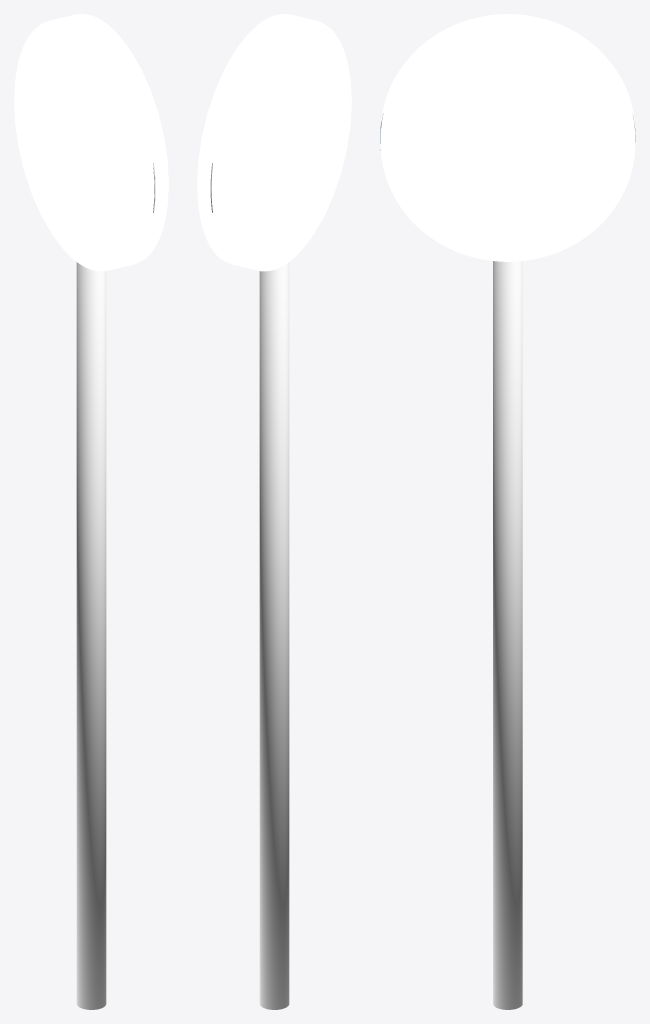
File: ledenec.gltf
3 views of the same model, side by side, from view 1: azimuth 30°, elevation 25°; view 2: azimuth 150°, elevation 25°; view 3: azimuth 270°, elevation 25° (orthographic).
Parts seen in each view (by area): view 1: lollipop, pal; view 2: lollipop, pal; view 3: lollipop, pal.
Part boxes in pixels (x1,y1,x2,y2): lollipop: (14,14,168,271); pal: (76,262,106,1009); lollipop: (197,14,351,271); pal: (259,262,289,1009); lollipop: (380,14,635,261); pal: (493,261,522,1009).
Bounding box in the file's own units: 0.1984 × 4.66 × 1.1.
3 materials, 1 textured.
